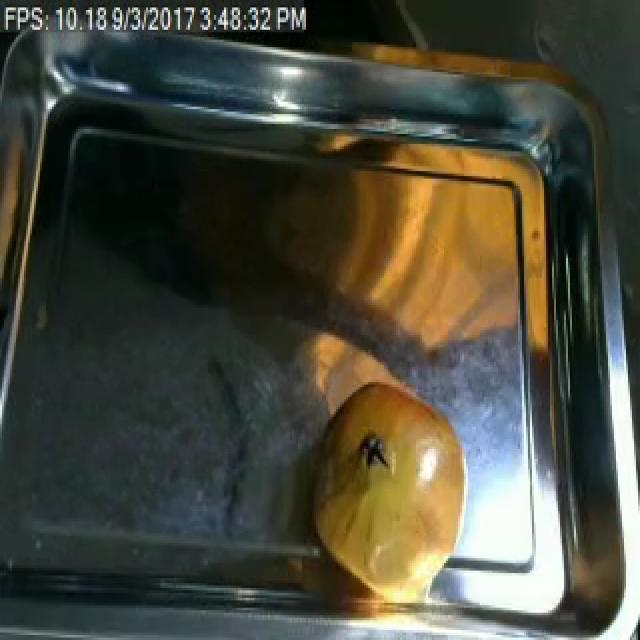fruit: (304, 365, 476, 605)
